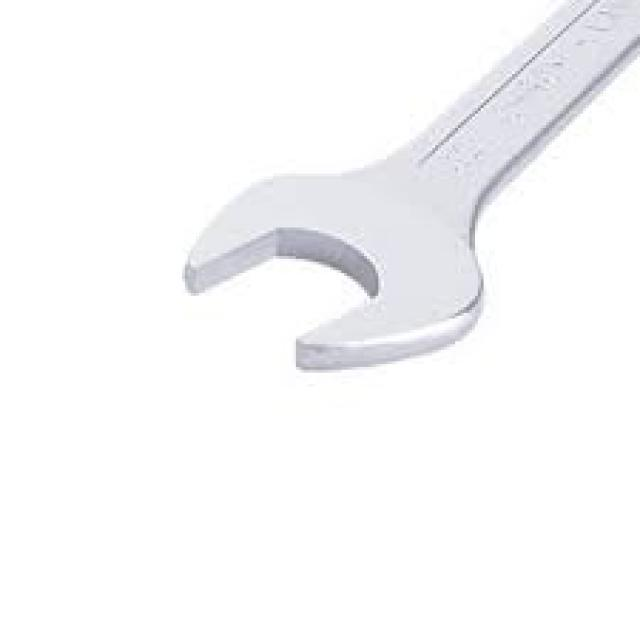wrench: (177, 0, 640, 376)
